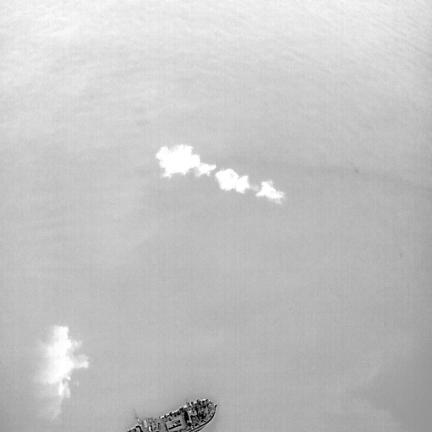flukeprints: (156, 144, 215, 177), (215, 169, 250, 192), (256, 181, 284, 203)
